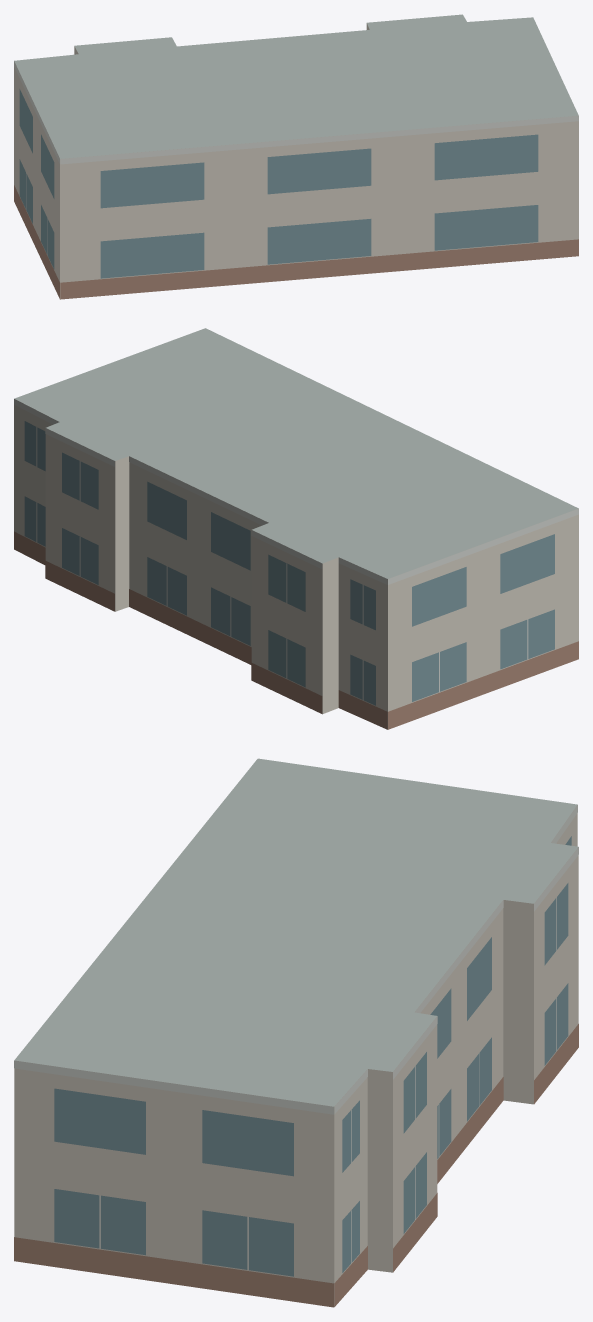
File: survey-upis-32509632.glb
3 renders of one model, top to bottom at view 1: azimuth 30°, elevation 25°; view 2: azimuth 150°, elevation 25°; view 3: azimuth 270°, elevation 25°, orthographic. The views are drawn at different scales.
Visible parts, largest first — view 1: survey-upis-32509632.tmp; view 2: survey-upis-32509632.tmp; view 3: survey-upis-32509632.tmp.
Boxes of the visible parts, bbox=[...] form: survey-upis-32509632.tmp: bbox=[14, 14, 578, 299]; survey-upis-32509632.tmp: bbox=[14, 328, 578, 729]; survey-upis-32509632.tmp: bbox=[14, 758, 578, 1307].
Bounding box in the file's own units: 22.71 × 6.1 × 15.56.
